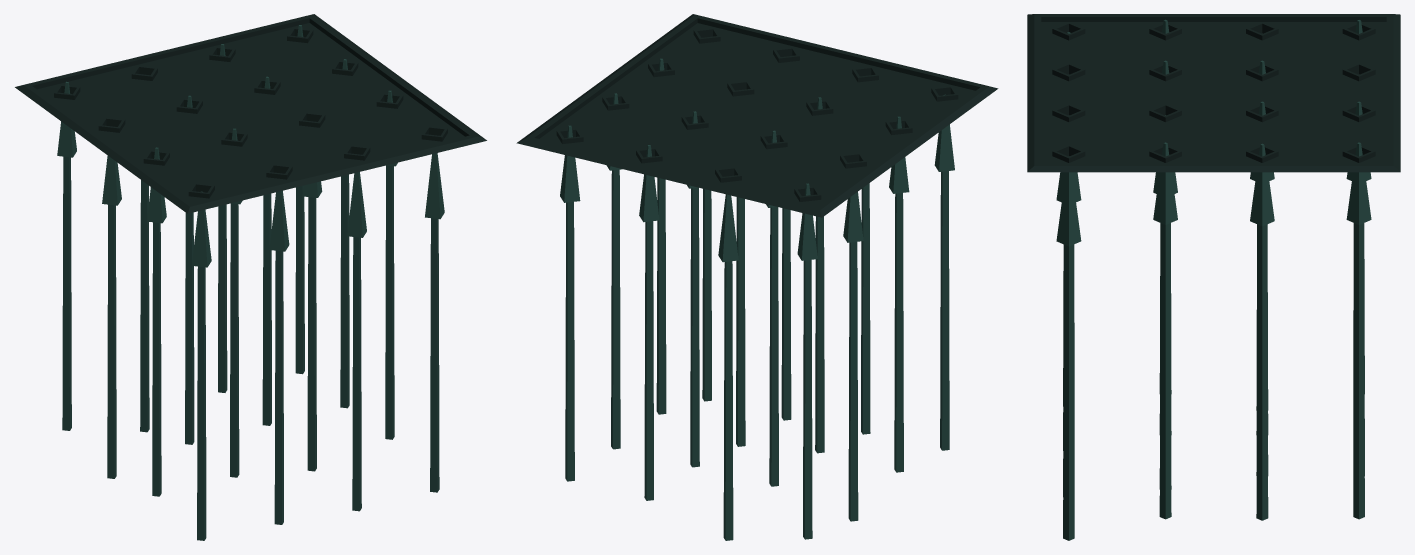
File: m_spear.glb
3 renders of one model, left to right at view 1: azimuth 30°, elevation 25°; view 2: azimuth 150°, elevation 25°; view 3: azimuth 270°, elevation 25°, orthographic. The views are drawn at different scales.
Parts seen in each view (by area): view 1: M_SpearBase, M_Spear; view 2: M_SpearBase, M_Spear; view 3: M_SpearBase, M_Spear.
Boxes of the visible parts, bbox=[...] form: M_SpearBase: bbox=[15, 14, 486, 213]; M_Spear: bbox=[57, 25, 444, 540]; M_SpearBase: bbox=[516, 14, 998, 217]; M_Spear: bbox=[560, 58, 954, 540]; M_SpearBase: bbox=[1027, 14, 1400, 172]; M_Spear: bbox=[1056, 19, 1371, 540].
Size of the model in its own units: 1.91 by 2.24 by 1.91.
1 material, 1 textured.
